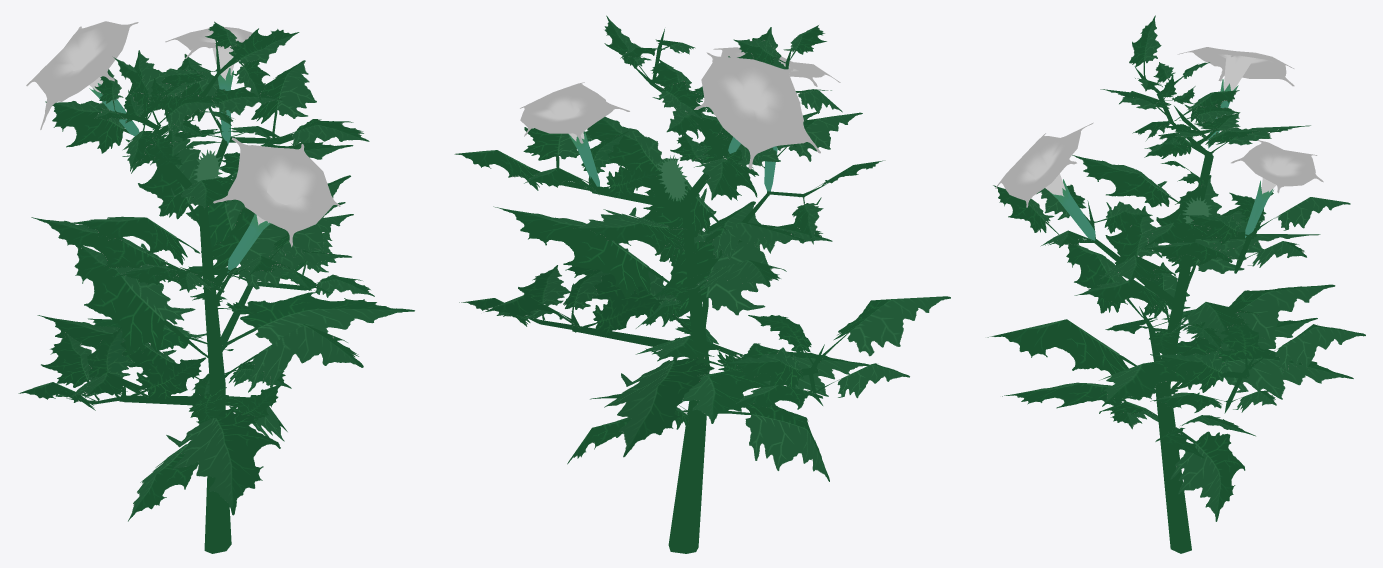
Rendered from PT_Thornapple_01.fbx.
3 renders of one model, left to right at view 1: azimuth 30°, elevation 25°; view 2: azimuth 150°, elevation 25°; view 3: azimuth 270°, elevation 25°, orthographic. The views are drawn at different scales.
Parts seen in each view (by area): view 1: PT_Thornapple_01_LOD0; view 2: PT_Thornapple_01_LOD0; view 3: PT_Thornapple_01_LOD0.
Part boxes in pixels (x1,y1,x2,y2): PT_Thornapple_01_LOD0: [18, 21, 414, 553]; PT_Thornapple_01_LOD0: [454, 15, 950, 553]; PT_Thornapple_01_LOD0: [987, 15, 1365, 553].
Size of what is drawn, in the model's own units: 130 by 174 by 127.
